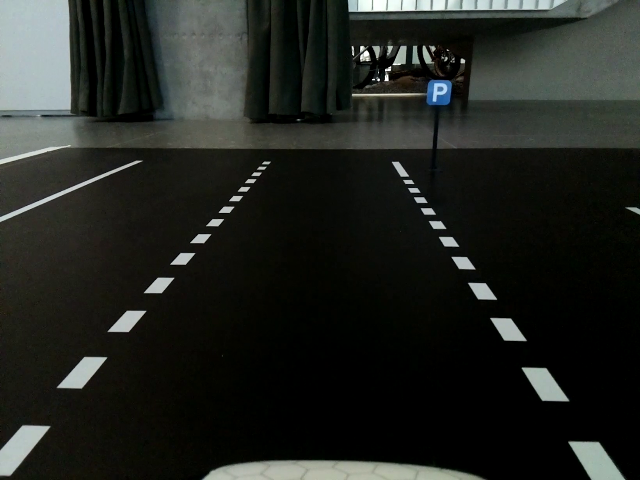park: (427, 80, 452, 107)
